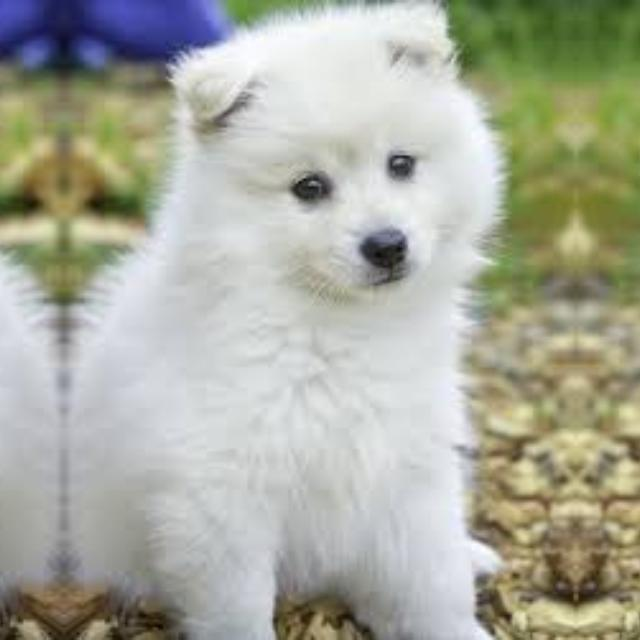dog: (169, 12, 513, 310), (638, 11, 640, 310)
